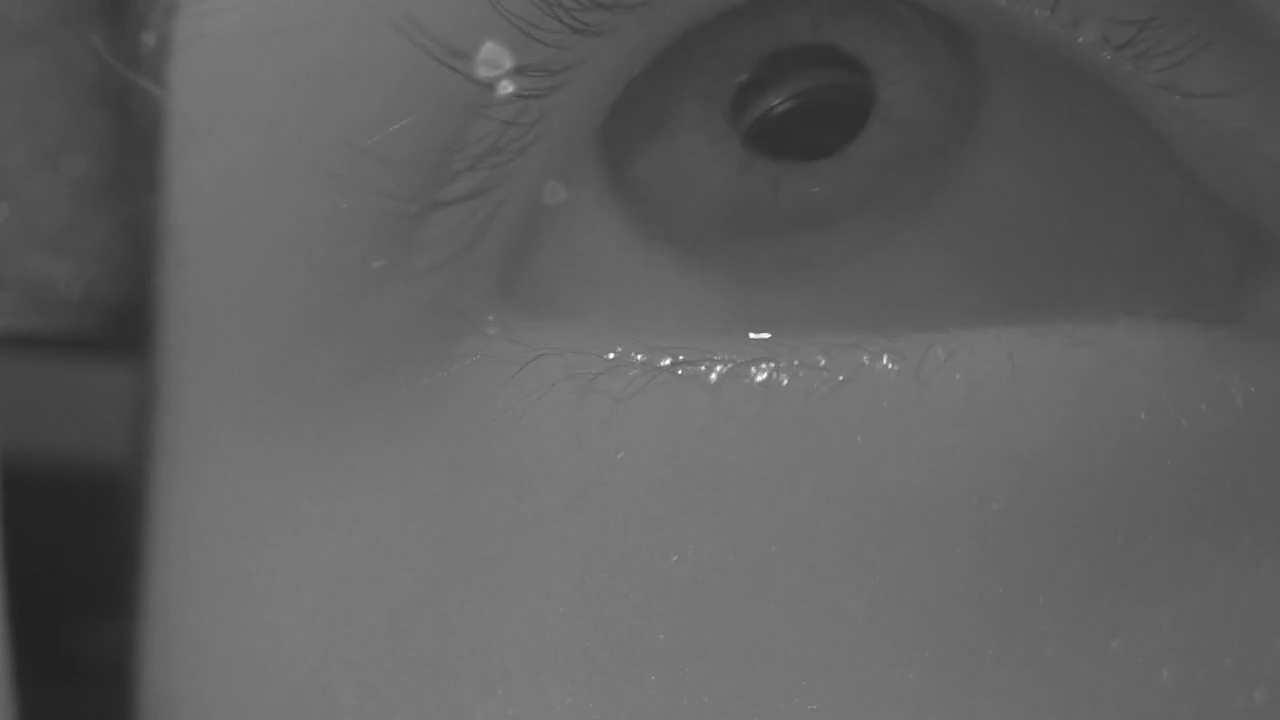pupil: (731, 44, 874, 162)
